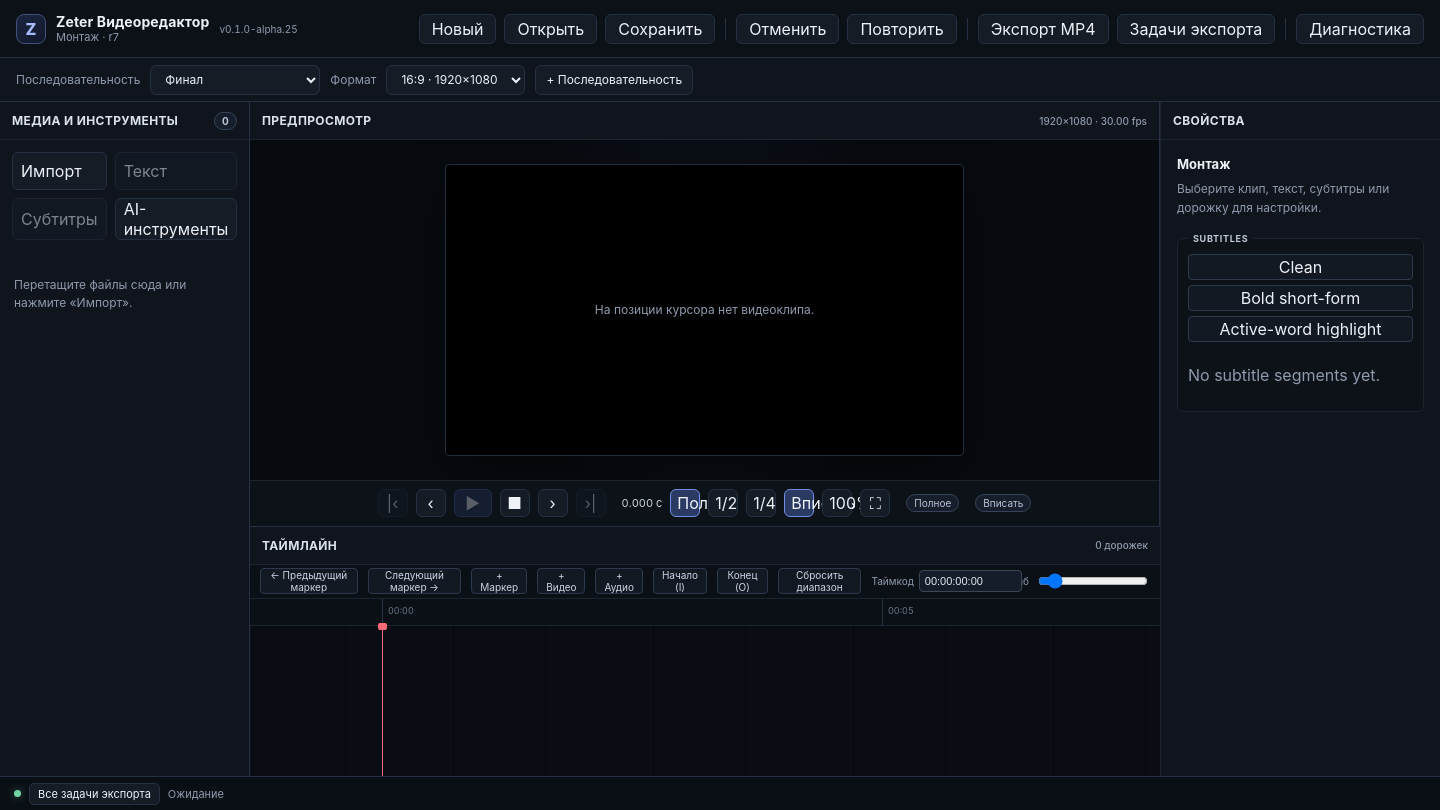
Test: ZVE-006 MP4 export UI › does not submit a partial export range
This screenshot has width=1440, height=810.
Click the button "Экспорт MP4".
click(1043, 28)  # box [978,14,1108,44]
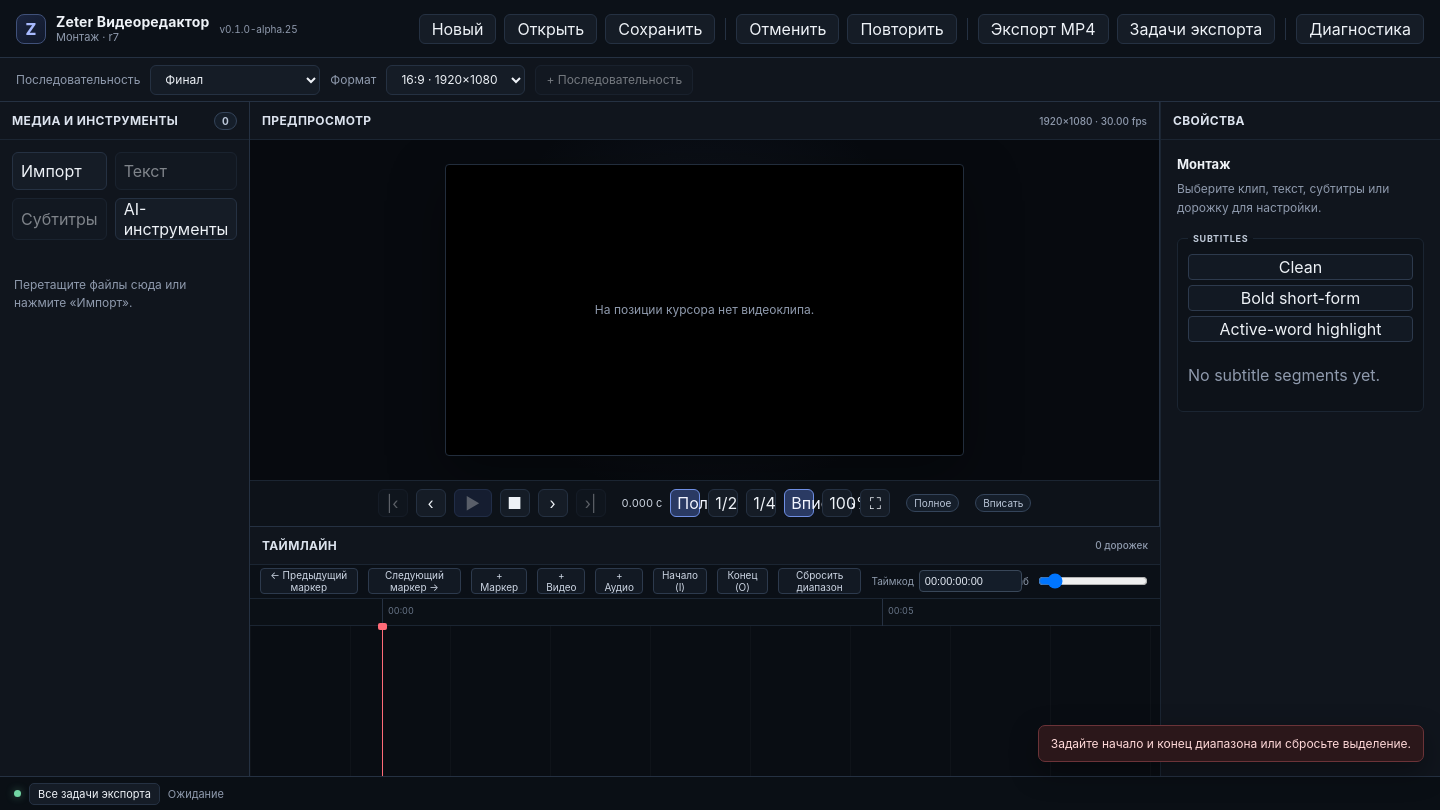
Expected: the message "Задайте начало и конец диапазона или сбросьте выделение." is shown, [1038,725,1424,762]
